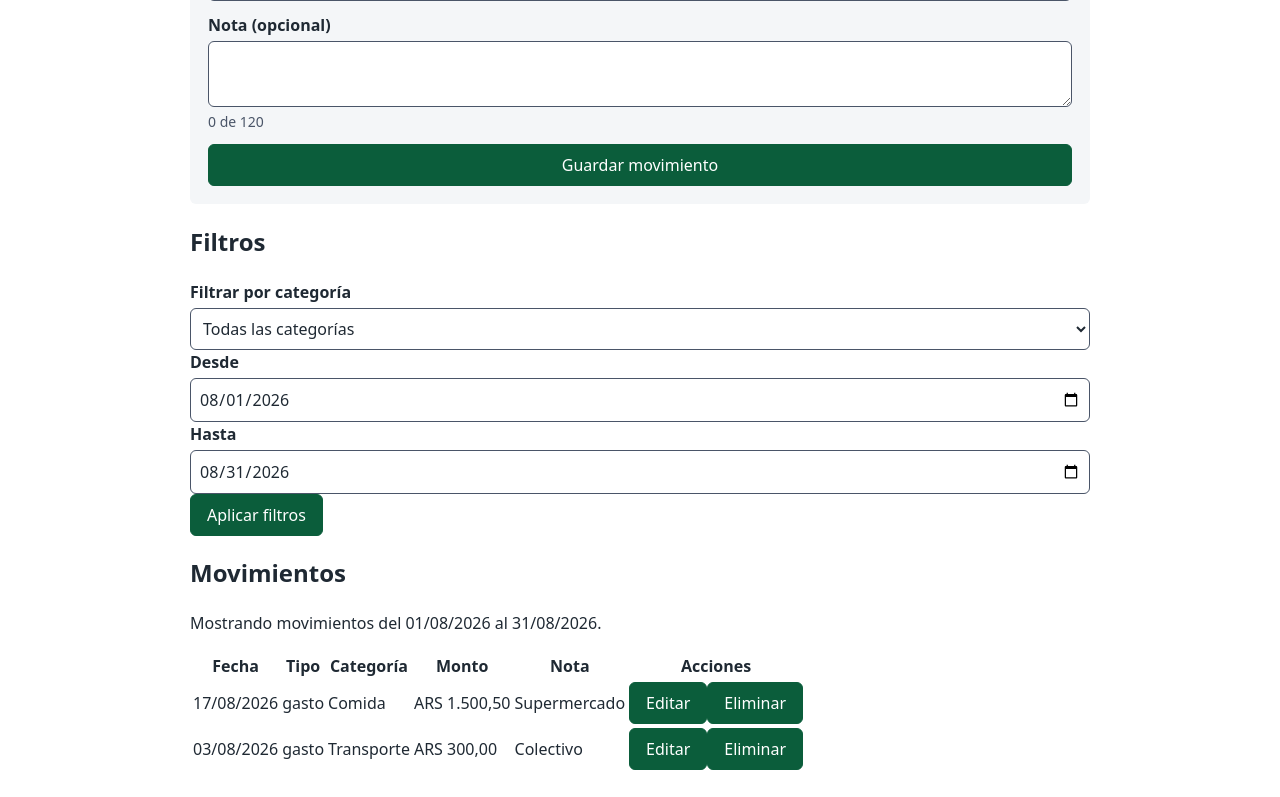
FiltrosMovimientos › Filtros_AlAplicarUnRango_LoPasaAlCliente
(page scrolled)
Expected: the text "Supermercado" is shown, [514,681,626,725]
Type "2026-07-01" into the date field labelled "Desde" at (640, 400), box [190,378,1090,422]
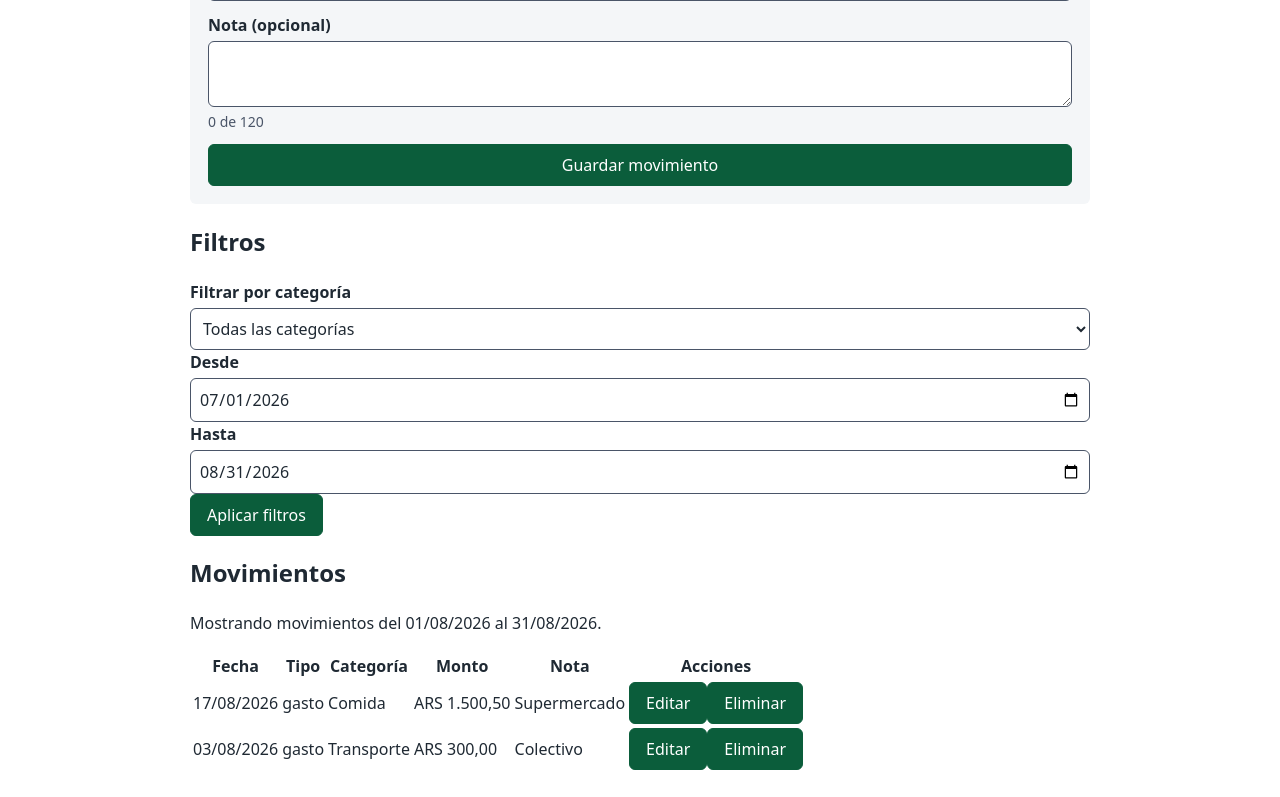
Type "2026-07-31" into the date field labelled "Hasta" at (640, 472), box [190,450,1090,494]
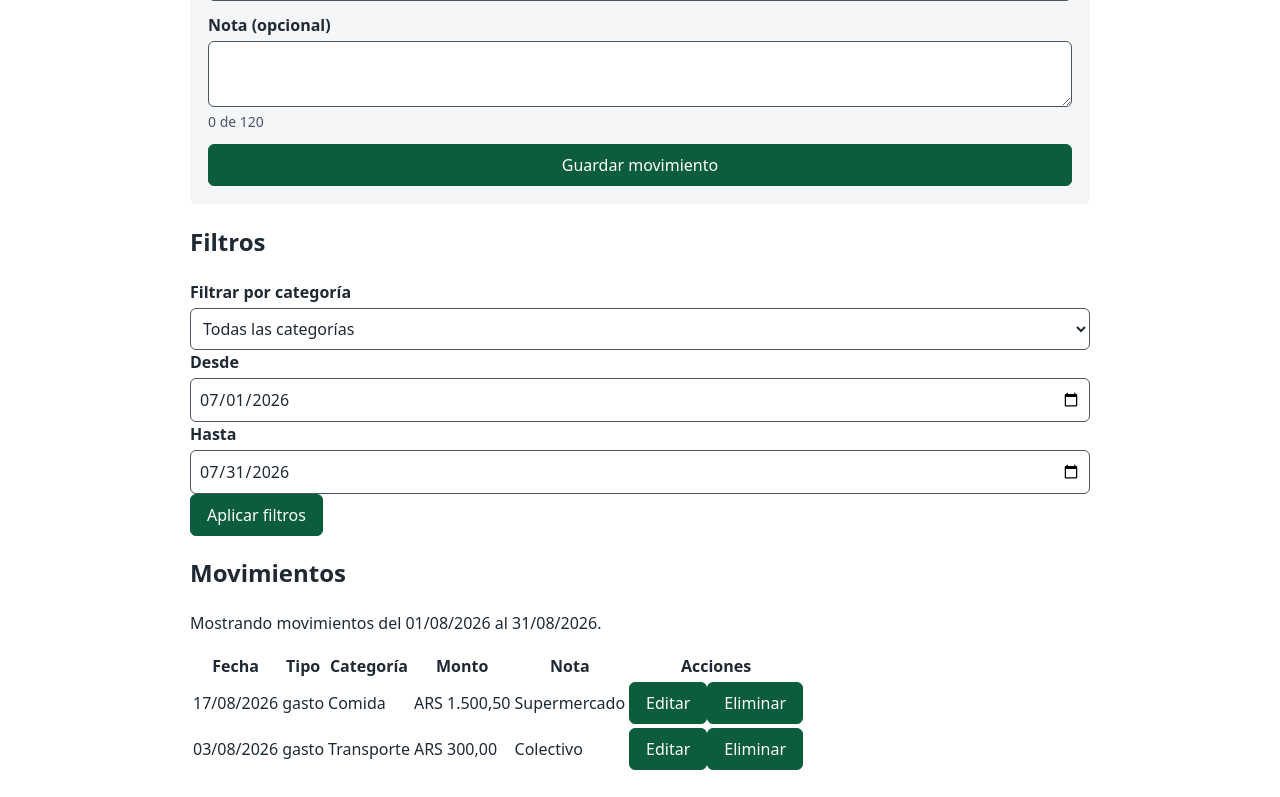
Click the button "Aplicar filtros" at (256, 514), box [190,494,323,536]
(page scrolled)
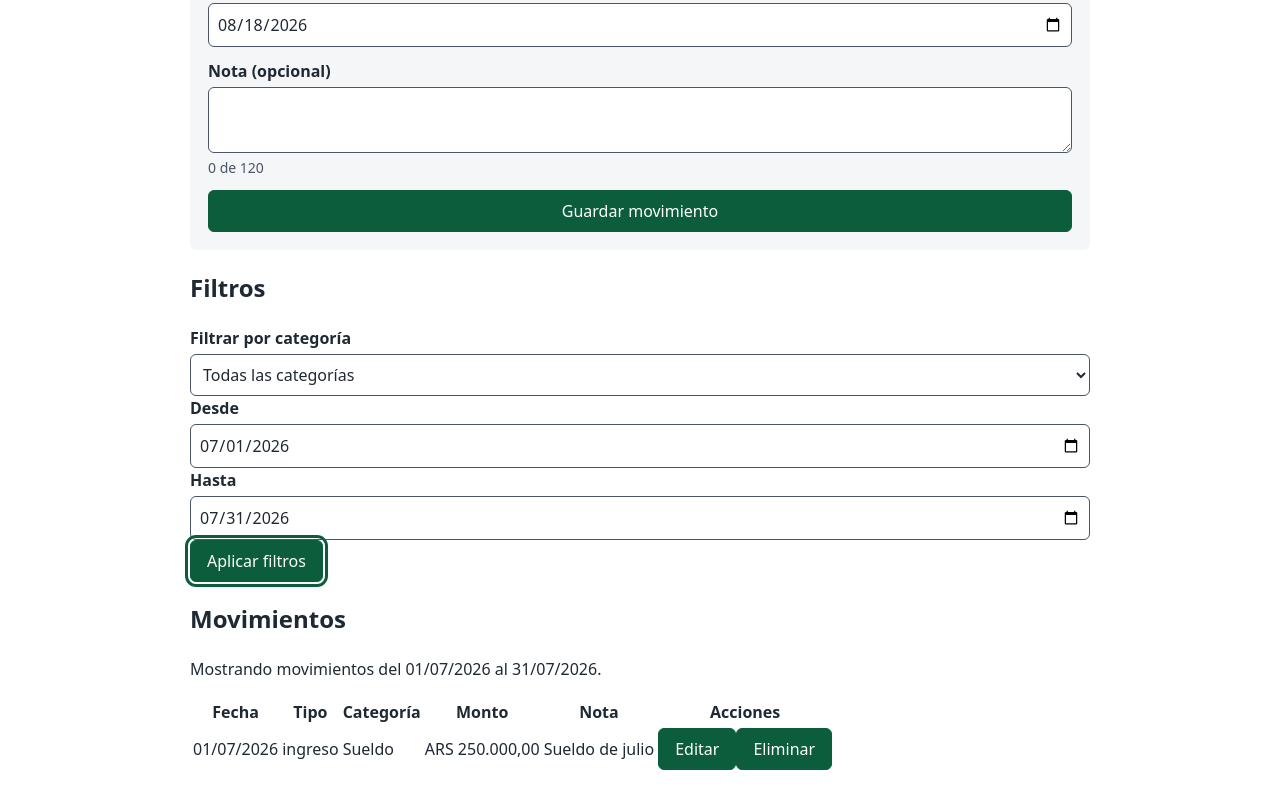
Result: the text "Sueldo de julio" is shown at [543,727,655,771]
Result: the text "Supermercado" is gone
